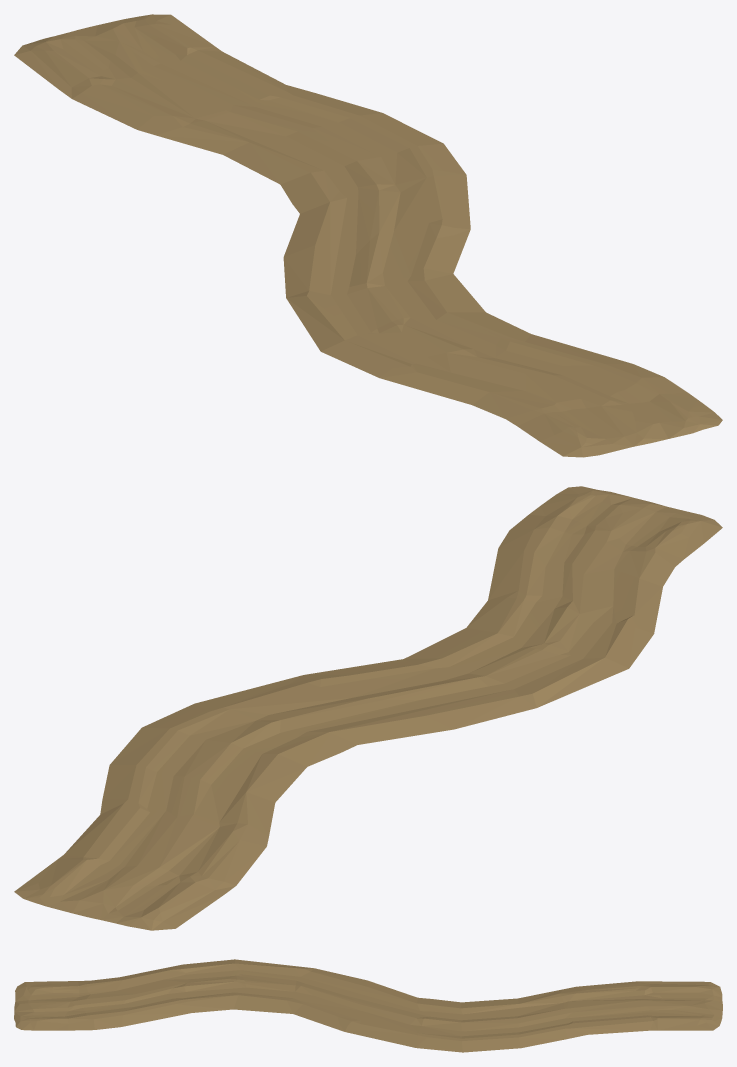
The model's file is SM_Env_Road_Dirt_Swerve_01.glb.
3 views of the same model, one above another, from view 1: azimuth 30°, elevation 25°; view 2: azimuth 150°, elevation 25°; view 3: azimuth 270°, elevation 25° (orthographic). The views are drawn at different scales.
Visible parts, largest first — view 1: SM_Env_Road_Dirt_Swerve_01; view 2: SM_Env_Road_Dirt_Swerve_01; view 3: SM_Env_Road_Dirt_Swerve_01.
Part boxes in pixels (<box>): SM_Env_Road_Dirt_Swerve_01: <box>14,14,722,457</box>; SM_Env_Road_Dirt_Swerve_01: <box>14,486,722,930</box>; SM_Env_Road_Dirt_Swerve_01: <box>14,959,722,1052</box>.
Bounding box in the file's own units: 13.03 × 0.2824 × 41.91.
1 material, 1 textured.
